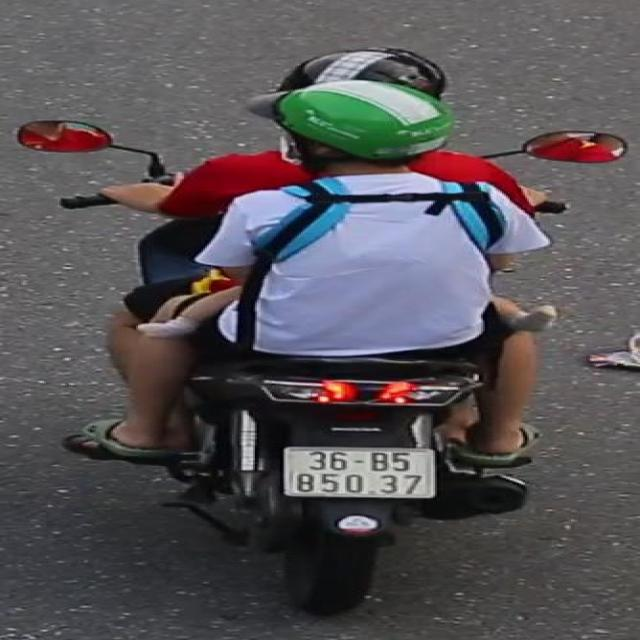LP: (278, 443, 442, 505)
helmet: (238, 79, 466, 204)
